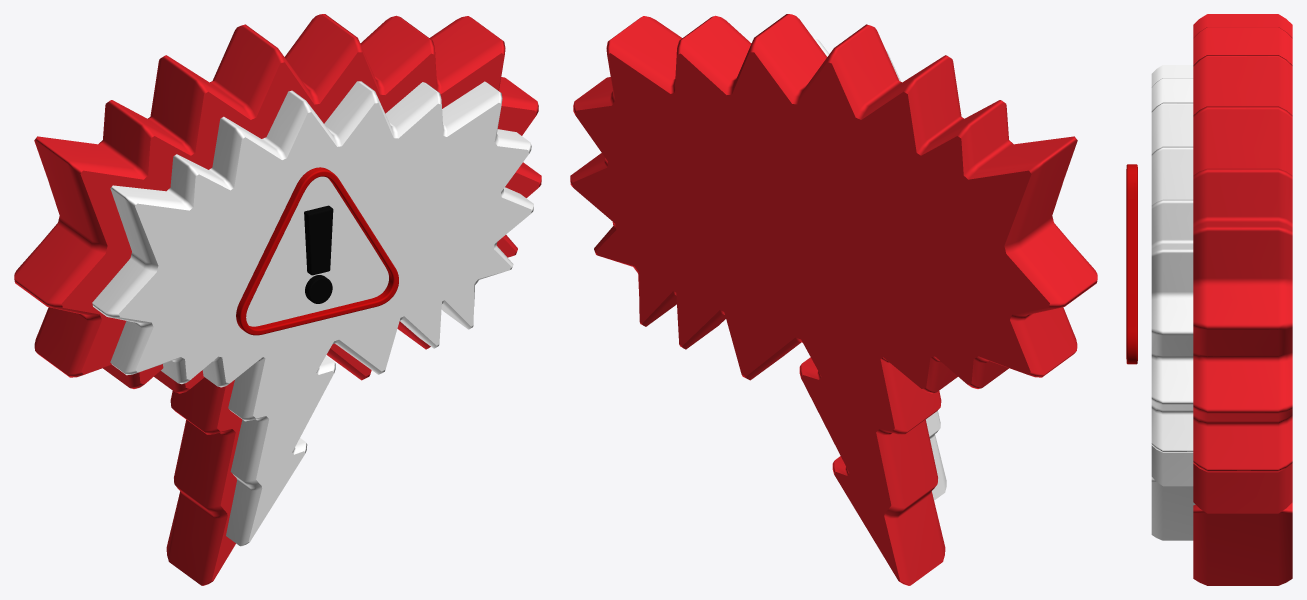
File: WarningBubble.glb
The picture shows the model from 3 angles, left to right: view 1: azimuth 30°, elevation 25°; view 2: azimuth 150°, elevation 25°; view 3: azimuth 270°, elevation 25°; orthographic projection. The views are drawn at different scales.
Visible parts, largest first — view 1: node_id71, node_id30, node_id53; view 2: node_id30, node_id71; view 3: node_id30, node_id71, node_id53.
Part boxes in pixels (x1,y1,x2,y2): node_id71: (92, 81, 533, 546); node_id30: (14, 14, 541, 585); node_id53: (236, 167, 398, 335); node_id30: (570, 14, 1097, 585); node_id71: (747, 38, 946, 500); node_id30: (1193, 14, 1292, 585); node_id71: (1151, 65, 1195, 540); node_id53: (1126, 164, 1137, 364).
Size of the model in its own units: 0.5105 by 0.512 by 0.1355.
Materials: 3 (3 with a texture image).
